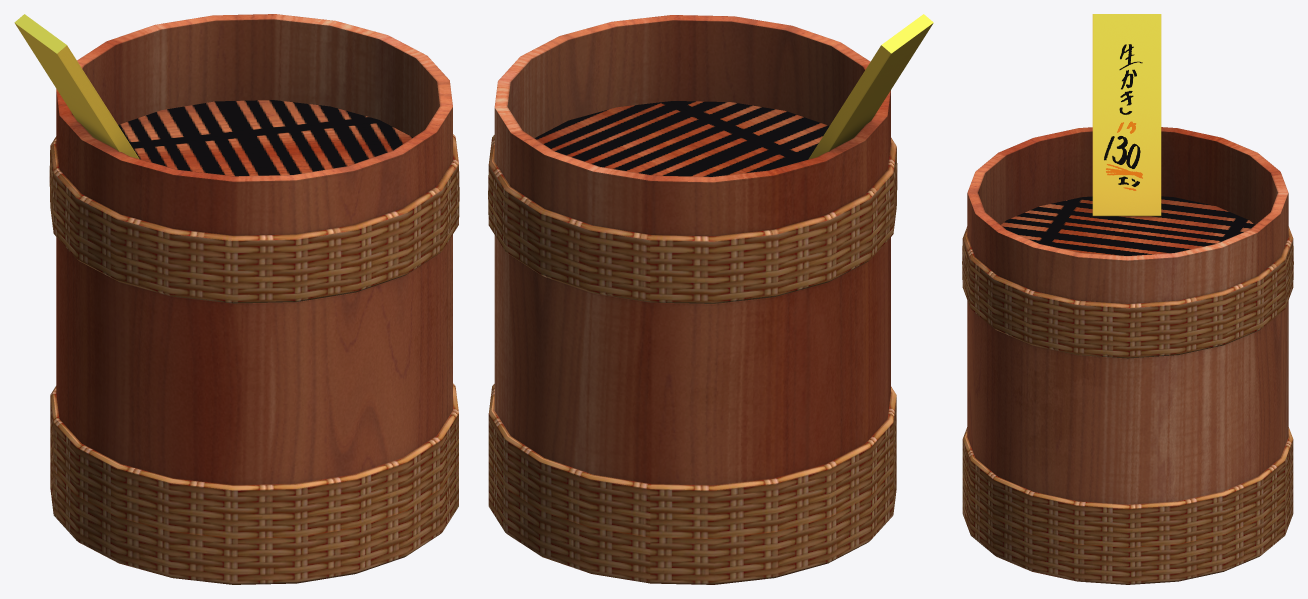
File: NNJ0810010.fbx
The picture shows the model from 3 angles, left to right: view 1: azimuth 30°, elevation 25°; view 2: azimuth 150°, elevation 25°; view 3: azimuth 270°, elevation 25°; orthographic projection. The views are drawn at different scales.
Visible parts, largest first — view 1: smNNJ0810010; view 2: smNNJ0810010; view 3: smNNJ0810010.
Boxes of the visible parts, x1,y1,x2,y2 form: smNNJ0810010: (14,14,459,584); smNNJ0810010: (488,14,933,584); smNNJ0810010: (962,14,1293,584).
Size of the model in its own units: 94.88 by 119 by 85.09.
1 material, 1 textured.
